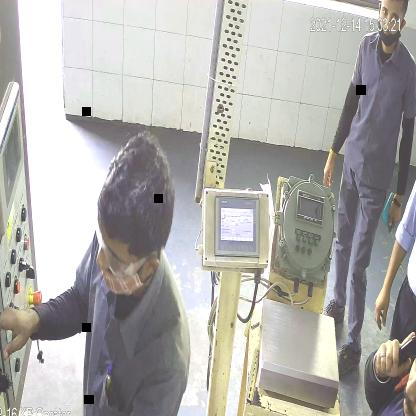no_glove: (373, 240, 407, 332), (0, 300, 40, 352), (321, 148, 338, 190)
